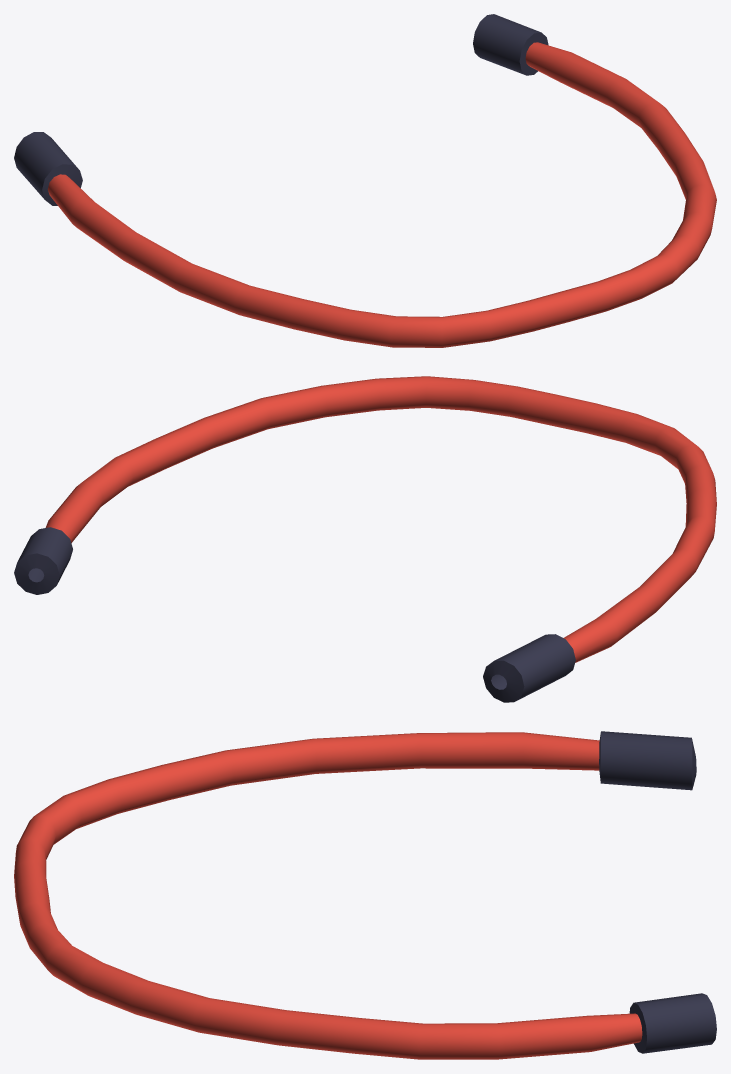
File: Rope.fbx
The picture shows the model from 3 angles, top to bottom: view 1: azimuth 30°, elevation 25°; view 2: azimuth 150°, elevation 25°; view 3: azimuth 270°, elevation 25°; orthographic projection. The views are drawn at different scales.
Visible parts, largest first — view 1: Rope; view 2: Rope; view 3: Rope.
Part boxes in pixels (bbox=[...]): Rope: bbox=[14, 14, 716, 347]; Rope: bbox=[14, 376, 716, 702]; Rope: bbox=[14, 731, 716, 1059].
Bounding box in the file's own units: 36.36 × 2.64 × 35.23.
